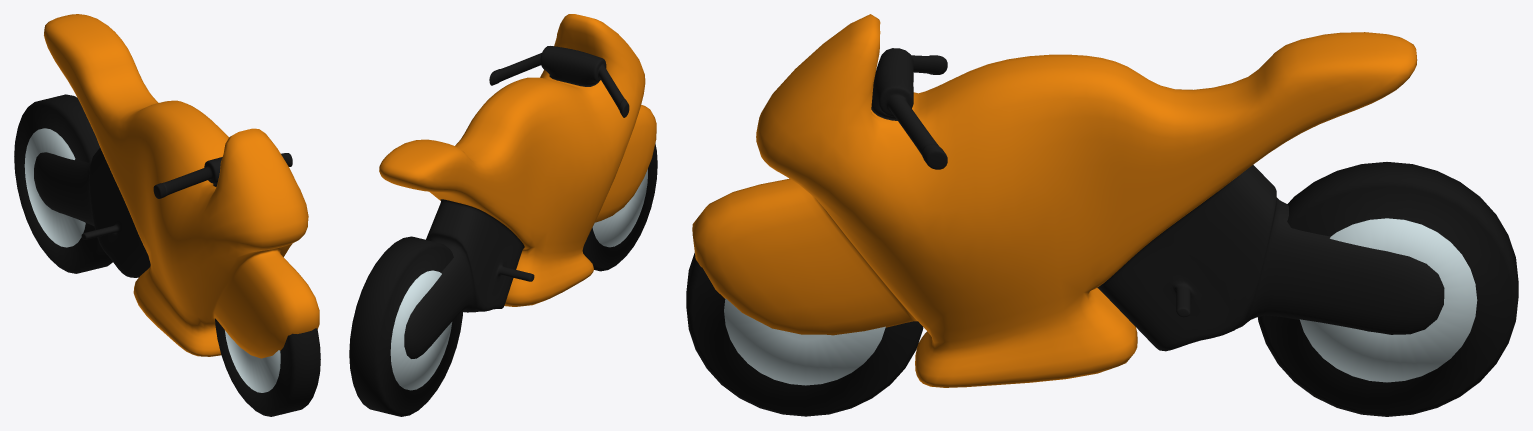
File: BikePH.dae
The picture shows the model from 3 angles, left to right: view 1: azimuth 30°, elevation 25°; view 2: azimuth 150°, elevation 25°; view 3: azimuth 270°, elevation 25°; orthographic projection. The views are drawn at different scales.
Visible parts, largest first — view 1: BikePH, Wheel.003, Wheel.002; view 2: BikePH, Wheel.003, Wheel.002; view 3: BikePH, Wheel.003, Wheel.002.
Boxes of the visible parts, box(x1,y1,x2,y2) form: BikePH: box(34, 14, 319, 358); Wheel.003: box(14, 94, 112, 273); Wheel.002: box(215, 318, 320, 416); BikePH: box(379, 14, 656, 358); Wheel.003: box(349, 236, 463, 416); Wheel.002: box(582, 143, 657, 271); BikePH: box(692, 14, 1444, 387); Wheel.003: box(1258, 162, 1518, 416); Wheel.002: box(686, 253, 923, 416).
Size of the model in its own units: 0.7419 by 2.72 by 1.4.
